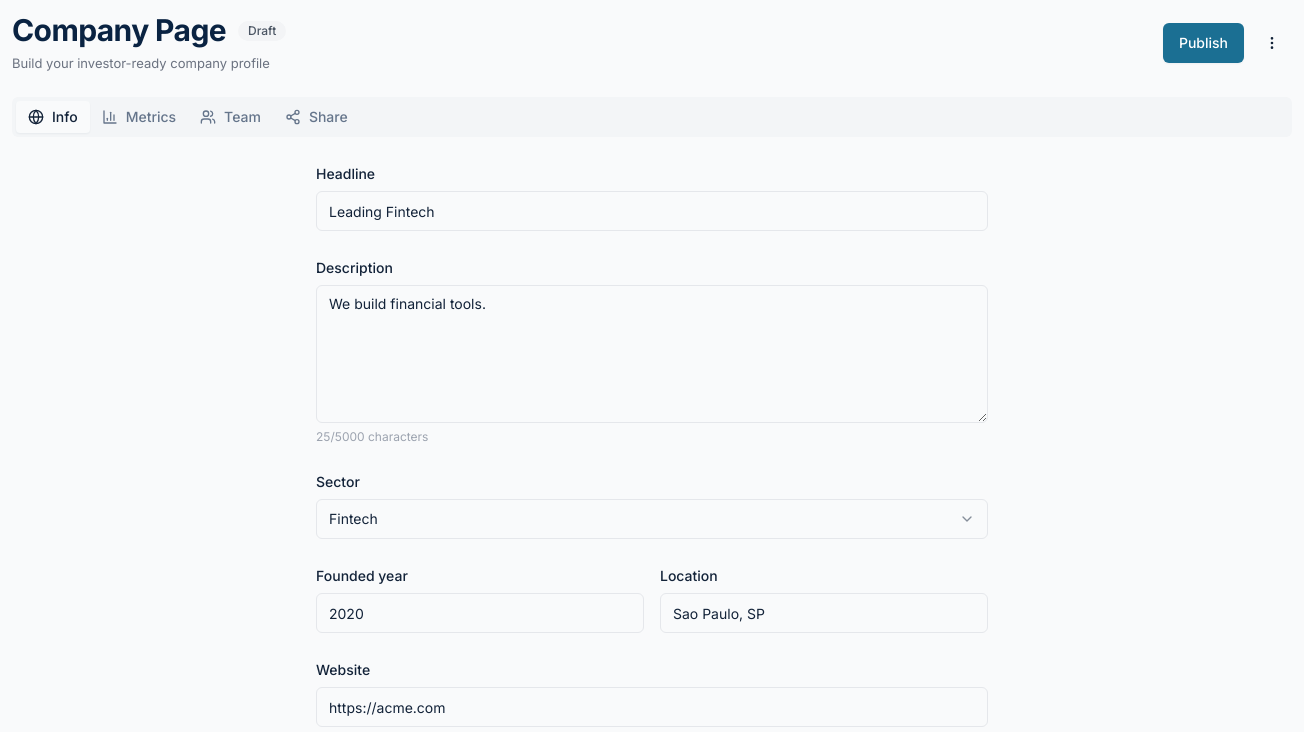
Scenario: CompanyPagePage › adds a new metric when Add Metric is clicked
Click the tab "Metrics": (139, 117) [90,101,188,133]
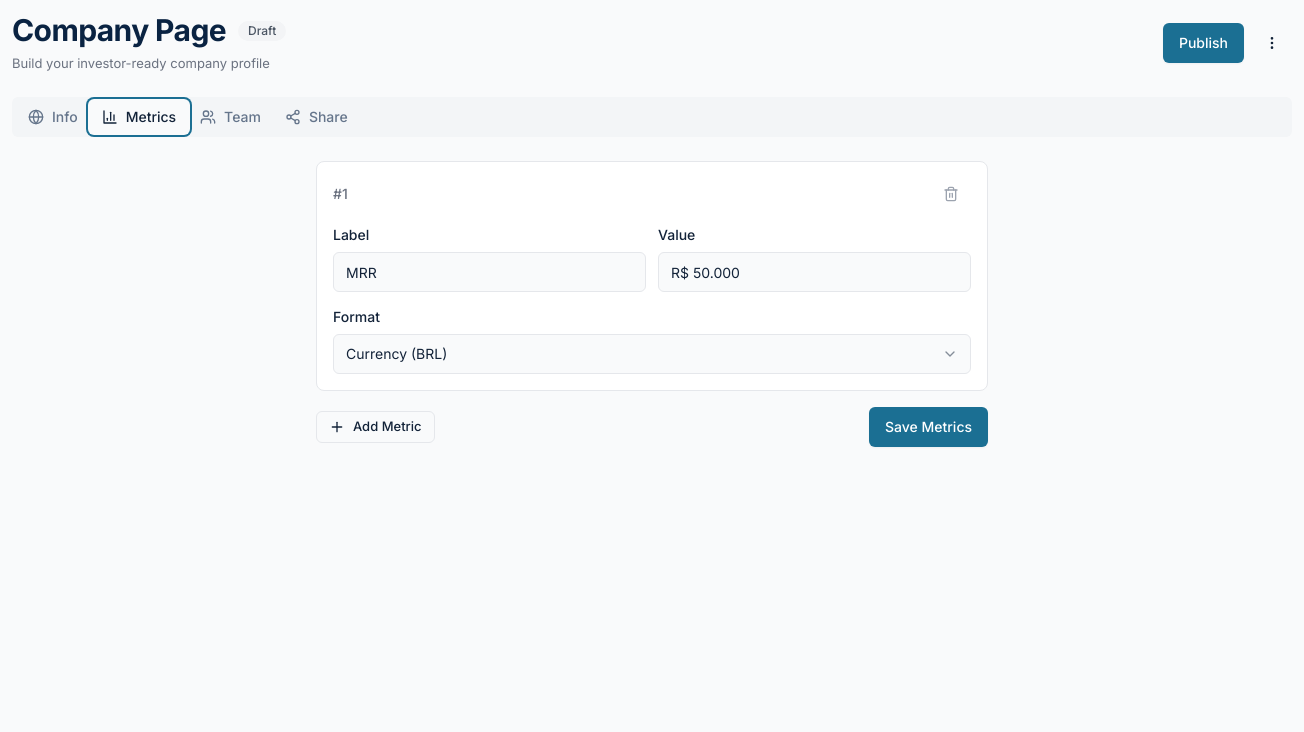
Note: There's one existing metric (#1), after clicking Add we should see #2
Click the button "Add Metric": (375, 427) [316,411,434,443]
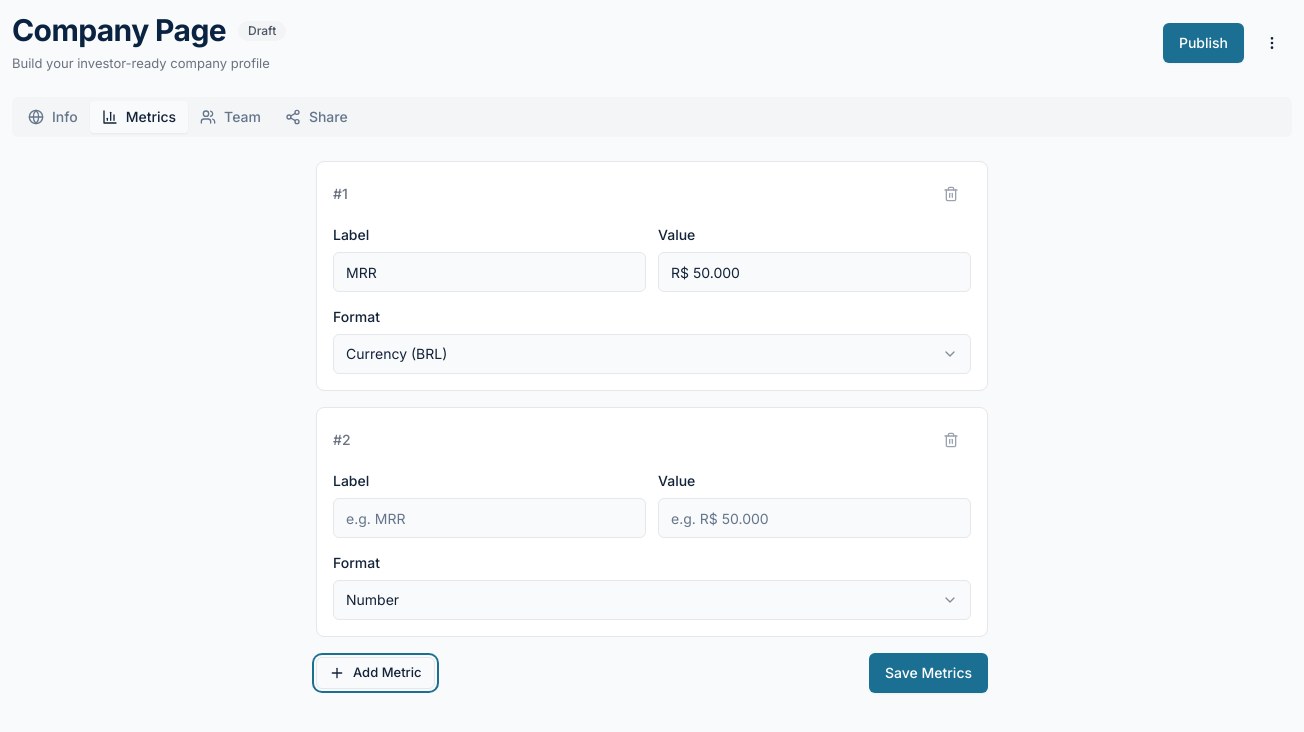
Now the text "#2" is shown, box [333,430,351,450]
